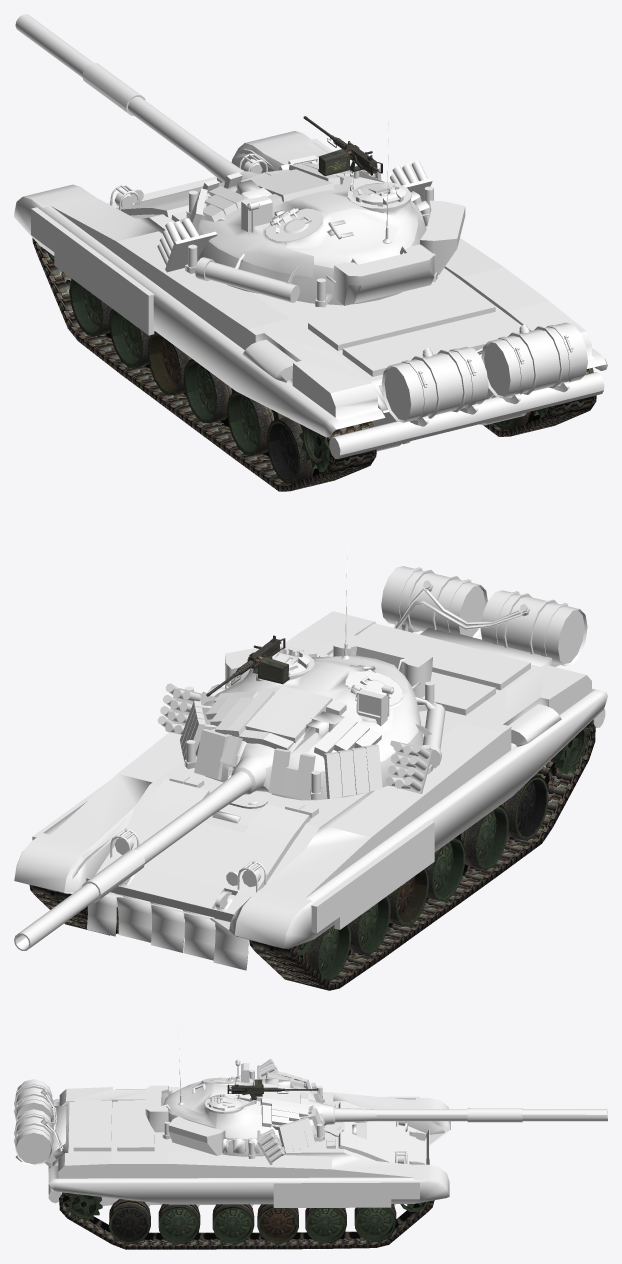
File: heavy_tank.glb
3 renders of one model, top to bottom at view 1: azimuth 30°, elevation 25°; view 2: azimuth 150°, elevation 25°; view 3: azimuth 270°, elevation 25°, orthographic. The views are drawn at different scales.
Visible parts, largest first — view 1: chassis, misc_a, gear533, track_1, misc_b, wheel_small_6, wheel_small_5, wheel_small_4, wheel_small_3, wheel_small_2, wheel_small_1, weapon (+1 smaller); view 2: chassis, misc_a, gear533, track_1, misc_b, wheel_small_5, wheel_small_6, wheel_small_1, wheel_small_4, wheel_small_2, wheel_small_3, weapon (+1 smaller); view 3: chassis, misc_a, track_1, misc_b, gear533, wheel_small_6, wheel_small_5, wheel_small_4, wheel_small_3, wheel_small_2, wheel_small_1, wheel_big_1 (+1 smaller).
Part boxes in pixels (left/top/right/bottom): chassis: left=14, top=131, right=607, bottom=458; misc_a: left=157, top=121, right=465, bottom=307; gear533: left=381, top=322, right=587, bottom=425; track_1: left=32, top=238, right=596, bottom=491; misc_b: left=15, top=14, right=258, bottom=183; wheel_small_6: left=266, top=411, right=533, bottom=484; wheel_small_5: left=227, top=391, right=285, bottom=455; wheel_small_4: left=183, top=359, right=235, bottom=423; wheel_small_3: left=147, top=331, right=191, bottom=395; wheel_small_2: left=109, top=309, right=154, bottom=367; wheel_small_1: left=69, top=279, right=111, bottom=336; weapon: left=303, top=116, right=382, bottom=176; chassis: left=14, top=611, right=607, bottom=970; misc_a: left=157, top=524, right=445, bottom=800; gear533: left=381, top=566, right=587, bottom=666; track_1: left=29, top=719, right=595, bottom=990; misc_b: left=14, top=756, right=269, bottom=950; wheel_small_5: left=457, top=805, right=508, bottom=870; wheel_small_6: left=501, top=774, right=548, bottom=840; wheel_small_1: left=87, top=906, right=350, bottom=981; wheel_small_4: left=426, top=836, right=465, bottom=901; wheel_small_2: left=349, top=895, right=390, bottom=954; wheel_small_3: left=388, top=868, right=428, bottom=926; weapon: left=206, top=635, right=289, bottom=696; chassis: left=15, top=1087, right=450, bottom=1207; misc_a: left=145, top=1024, right=325, bottom=1164; track_1: left=59, top=1192, right=434, bottom=1249; misc_b: left=318, top=1103, right=607, bottom=1125; gear533: left=14, top=1079, right=63, bottom=1165; wheel_small_6: left=109, top=1199, right=150, bottom=1243; wheel_small_5: left=158, top=1204, right=200, bottom=1243; wheel_small_4: left=212, top=1204, right=254, bottom=1243; wheel_small_3: left=257, top=1204, right=298, bottom=1243; wheel_small_2: left=305, top=1208, right=346, bottom=1243; wheel_small_1: left=354, top=1204, right=396, bottom=1242; wheel_big_1: left=65, top=1193, right=102, bottom=1222.
Size of the model in its own units: 3.47 by 3.7 by 10.08.
Materials: 8 (7 with a texture image).
